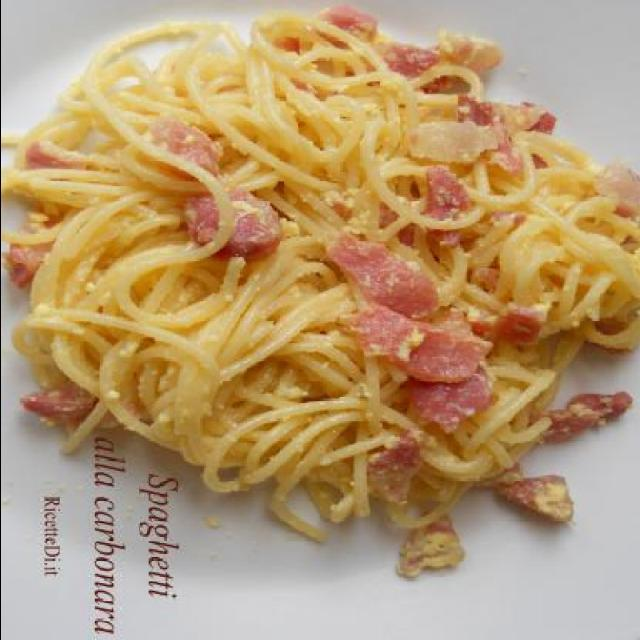Pasta with carbonara sauce: (27, 32, 639, 566)
